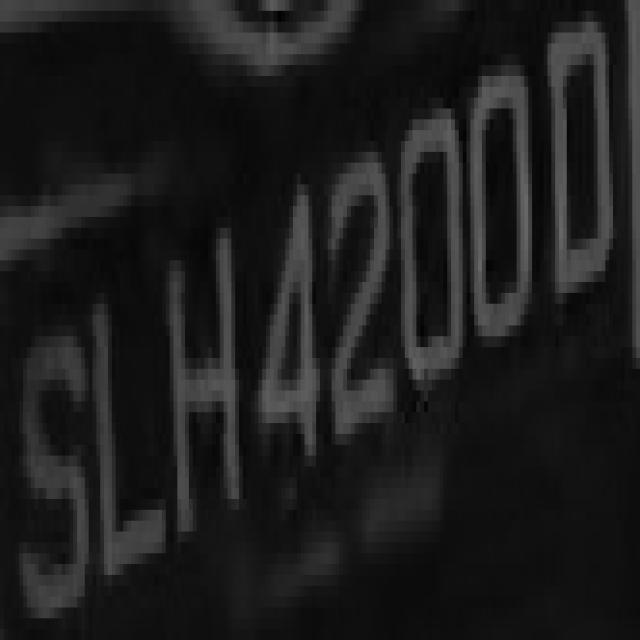0: (462, 44, 540, 402), (390, 98, 470, 412)
2: (320, 130, 409, 477)
4: (243, 173, 331, 510)
D: (543, 0, 624, 336)
H: (162, 239, 243, 575)
L: (74, 228, 174, 607)
S: (4, 282, 85, 629)
